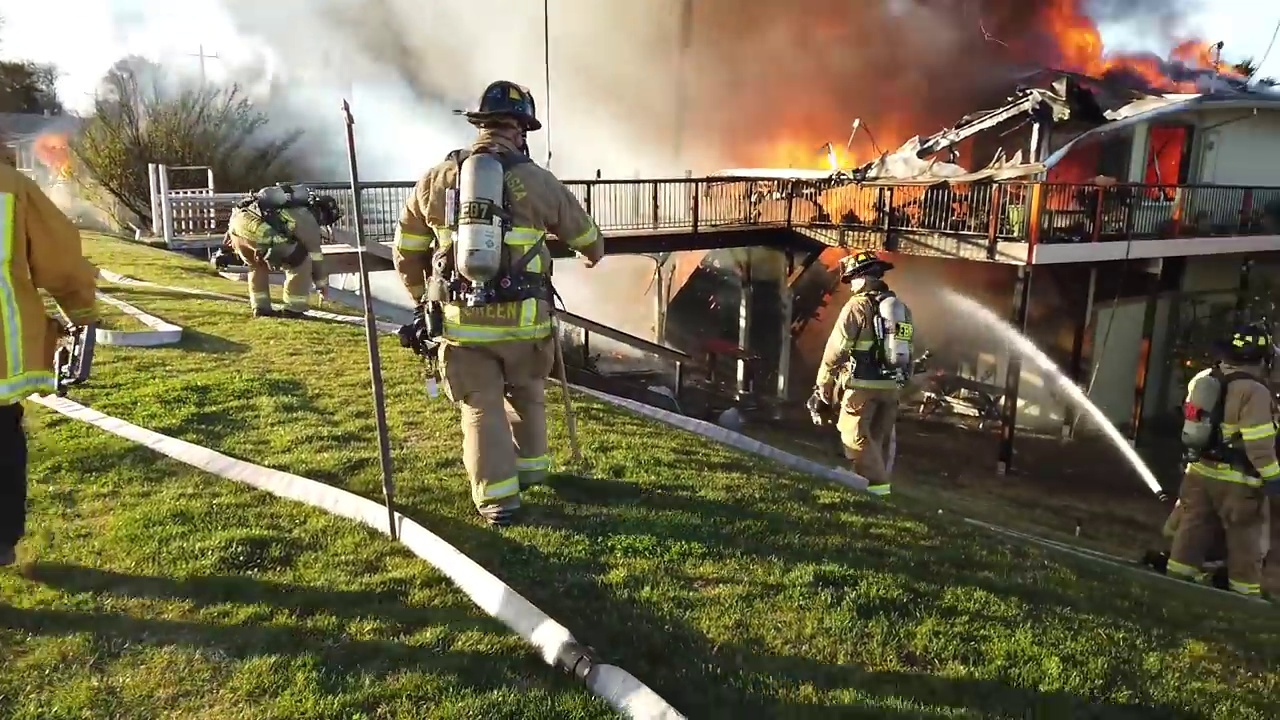fire: (761, 95, 906, 177), (1046, 1, 1135, 76), (1151, 34, 1252, 95), (1146, 125, 1189, 185), (32, 126, 74, 179)
smoke: (42, 1, 478, 176), (705, 1, 1159, 120), (484, 4, 705, 176), (561, 259, 657, 334), (51, 180, 128, 235)
